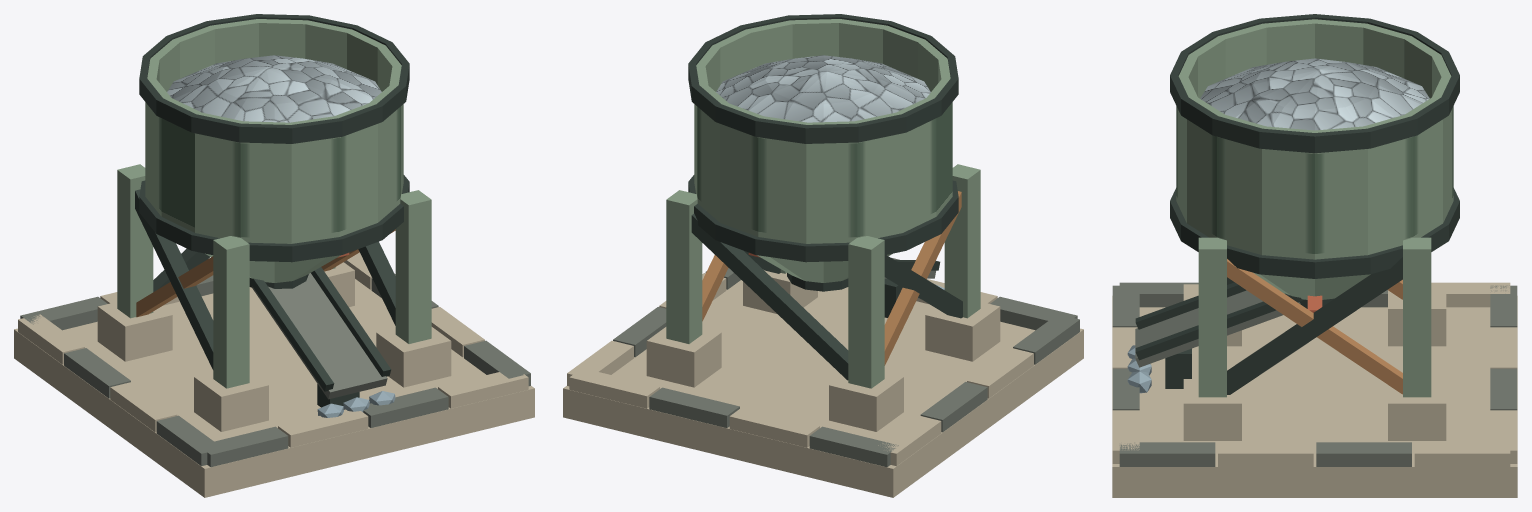
File: source-bulk.glb
3 views of the same model, side by side, from view 1: azimuth 30°, elevation 25°; view 2: azimuth 150°, elevation 25°; view 3: azimuth 270°, elevation 25° (orthographic). The views are drawn at different scales.
Parts seen in each view (by area): view 1: Mesh_source-bulk_FacilityDetailPaint, Textured aggregate heap; view 2: Mesh_source-bulk_FacilityDetailPaint, Textured aggregate heap; view 3: Mesh_source-bulk_FacilityDetailPaint, Textured aggregate heap.
Part boxes in pixels (box(x1,y1,x2,y2)): Mesh_source-bulk_FacilityDetailPaint: box(14, 14, 534, 497); Textured aggregate heap: box(167, 55, 381, 122); Mesh_source-bulk_FacilityDetailPaint: box(563, 14, 1083, 497); Textured aggregate heap: box(716, 55, 930, 122); Mesh_source-bulk_FacilityDetailPaint: box(1112, 14, 1517, 497); Textured aggregate heap: box(1200, 58, 1429, 130).
Size of the model in its own units: 0.8333 by 0.77 by 0.8333.
Materials: 2 (2 with a texture image).
